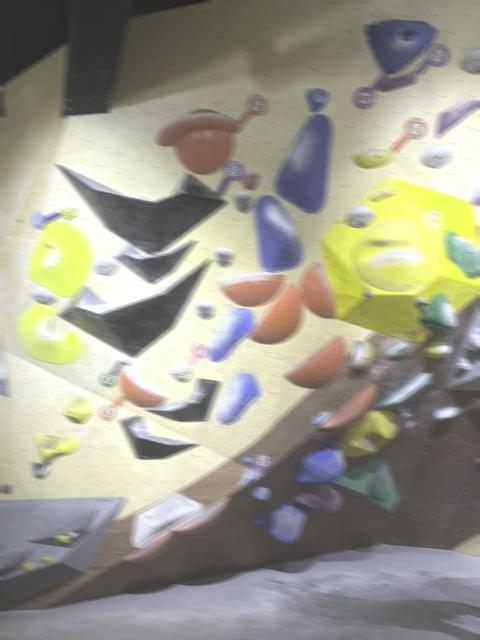crimp: (436, 99, 480, 138), (377, 69, 417, 91), (369, 187, 397, 201), (239, 469, 255, 486), (58, 207, 77, 219), (426, 211, 441, 220)
downhold: (421, 144, 452, 168), (346, 204, 376, 228), (460, 47, 480, 74), (93, 256, 118, 274), (32, 286, 56, 304), (234, 190, 253, 212), (196, 299, 214, 319), (216, 246, 233, 266)
jib: (34, 433, 80, 461), (21, 560, 34, 571), (40, 554, 54, 564), (415, 298, 429, 307), (55, 535, 69, 543), (2, 484, 12, 493), (242, 456, 253, 464), (363, 289, 372, 296), (70, 531, 77, 538)
jug: (445, 231, 480, 278), (419, 293, 457, 334), (353, 148, 394, 168), (424, 336, 451, 358), (434, 406, 462, 421), (388, 341, 408, 359), (171, 365, 193, 381), (241, 171, 258, 189)
ledge: (321, 178, 480, 342), (57, 164, 226, 253), (59, 259, 210, 357), (352, 218, 431, 291), (156, 109, 243, 174), (132, 492, 203, 548), (17, 304, 82, 363), (115, 240, 196, 283), (120, 415, 198, 458), (284, 334, 347, 387), (249, 283, 304, 343), (249, 284, 304, 343), (147, 378, 220, 421), (377, 366, 435, 410), (323, 382, 377, 429), (208, 308, 255, 361), (219, 272, 285, 306), (172, 497, 230, 531), (118, 368, 167, 407), (124, 532, 173, 561)
pocket: (28, 218, 92, 296), (365, 19, 437, 73), (305, 88, 329, 112)
sidepull: (275, 114, 332, 212), (253, 195, 303, 271), (218, 372, 261, 424), (300, 261, 336, 317), (350, 339, 373, 369)
sloper: (252, 486, 270, 500)
tape: (390, 117, 427, 152), (354, 73, 388, 108), (416, 44, 450, 74), (216, 160, 244, 194), (239, 94, 268, 124), (100, 394, 126, 420), (100, 360, 123, 386), (32, 211, 61, 229), (187, 343, 208, 365), (252, 454, 270, 477), (460, 398, 480, 412), (424, 388, 440, 399), (310, 429, 324, 439)
undercling: (253, 500, 309, 543), (294, 436, 344, 483), (293, 484, 344, 512), (31, 462, 52, 478)
volume: (0, 498, 125, 601), (334, 458, 398, 512)
